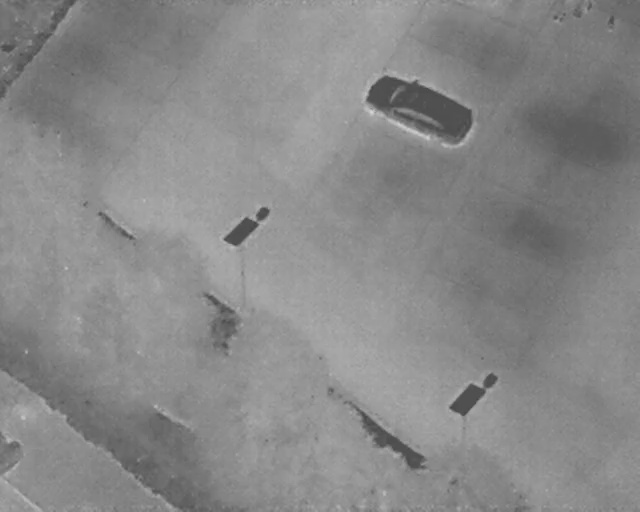Car: (356, 57, 486, 158)
